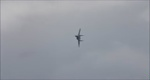maybay_muctieu: (73, 27, 84, 47)
